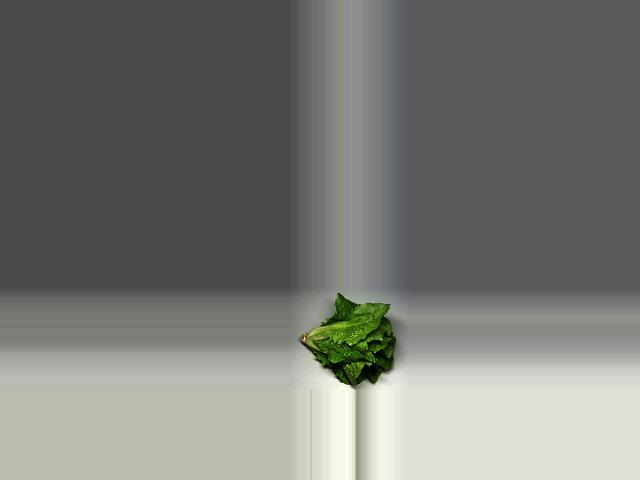lettuce: (298, 293, 396, 386)
